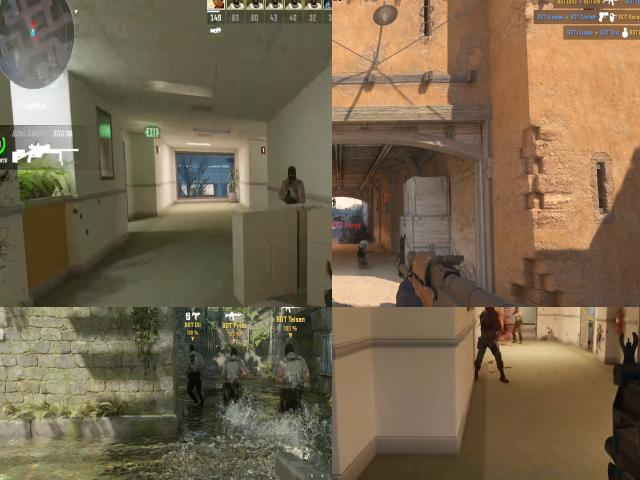Bomb: (188, 350, 197, 368)
CT: (477, 307, 502, 368), (332, 198, 336, 208)
CT-Head: (486, 307, 497, 319), (333, 198, 335, 201)
Dead: (358, 239, 369, 265), (334, 214, 344, 221)
T: (273, 340, 309, 434), (218, 344, 250, 430), (184, 342, 205, 416), (280, 171, 304, 204)
T-Head: (510, 307, 524, 333), (286, 162, 300, 184), (283, 342, 298, 361), (227, 346, 241, 360), (186, 343, 199, 354), (513, 307, 520, 314)
